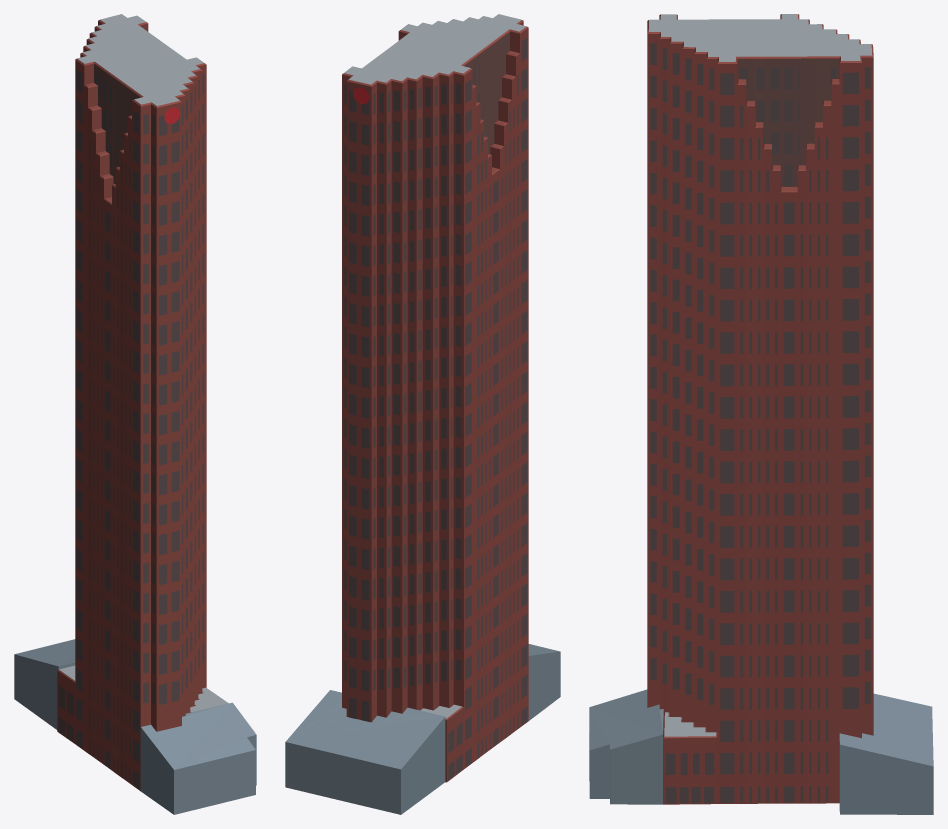
Rendered from tor-scotia-plaza.glb.
3 views of the same model, side by side, from view 1: azimuth 30°, elevation 25°; view 2: azimuth 150°, elevation 25°; view 3: azimuth 270°, elevation 25° (orthographic). The views are drawn at different scales.
Visible parts, largest first — view 1: Scotia Plaza; view 2: Scotia Plaza; view 3: Scotia Plaza.
Part boxes in pixels (box(x1,y1,x2,y2)): Scotia Plaza: box(14, 14, 256, 814); Scotia Plaza: box(285, 14, 560, 814); Scotia Plaza: box(589, 14, 933, 814).
Size of the model in its own units: 48.09 by 275 by 116.
